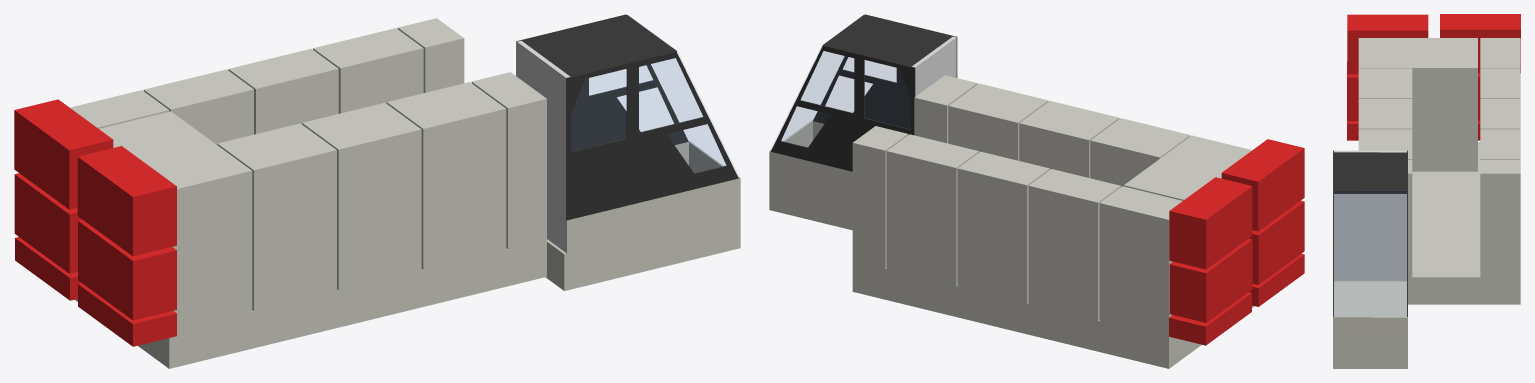
File: vehicle.glb
3 renders of one model, left to right at view 1: azimuth 30°, elevation 25°; view 2: azimuth 150°, elevation 25°; view 3: azimuth 270°, elevation 25°, orthographic. The views are drawn at different scales.
Parts seen in each view (by area): view 1: Plane, Cube.001, Cube.003, Cube.002, Cube.004, cabinSideN.003, Cube.013, Cube, cabinSideN.004, Cube.015, Cube.012, Cube.009 (+11 smaller); view 2: Plane, Cube.006, Cube.009, Cube.007, Cube.008, Cube.015, cabinSideN.001, Cube.005, Cube.001, Cube.002, Cube.014, Cube.013 (+11 smaller); view 3: Plane, Cube.011, Cube.023, Cube.005, Cube.024, Cube.013, Cube.015, cabinSideN.004, Cube.003, Cube.002, Cube.004, Cube.006 (+9 smaller).
Part boxes in pixels (bbox=[...]): Plane: bbox=[75, 211, 740, 368]; Cube.001: bbox=[386, 82, 506, 269]; Cube.003: bbox=[217, 123, 336, 311]; Cube.002: bbox=[302, 102, 421, 290]; Cube.004: bbox=[144, 144, 252, 329]; cabinSideN.003: bbox=[566, 51, 738, 220]; Cube.013: bbox=[77, 146, 176, 256]; Cube: bbox=[471, 72, 546, 249]; cabinSideN.004: bbox=[566, 141, 740, 253]; Cube.015: bbox=[14, 99, 113, 209]; Cube.012: bbox=[78, 219, 176, 320]; Cube.009: bbox=[313, 28, 423, 113]; Plane: bbox=[769, 179, 1254, 368]; Cube.006: bbox=[957, 151, 1049, 303]; Cube.009: bbox=[886, 134, 979, 285]; Cube.007: bbox=[1028, 169, 1120, 320]; Cube.008: bbox=[1099, 186, 1182, 337]; Cube.015: bbox=[1169, 177, 1252, 269]; cabinSideN.001: bbox=[771, 45, 915, 171]; Cube.005: bbox=[852, 126, 908, 268]; Cube.001: bbox=[948, 83, 1048, 160]; Cube.002: bbox=[1019, 101, 1119, 177]; Cube.014: bbox=[1169, 238, 1252, 322]; Cube.013: bbox=[1221, 139, 1304, 231]; Plane: bbox=[1333, 142, 1520, 368]; Cube.011: bbox=[1410, 38, 1477, 171]; Cube.023: bbox=[1334, 150, 1406, 281]; Cube.005: bbox=[1480, 159, 1520, 277]; Cube.024: bbox=[1334, 152, 1406, 193]; Cube.013: bbox=[1347, 14, 1428, 74]; Cube.015: bbox=[1440, 14, 1520, 73]; cabinSideN.004: bbox=[1333, 317, 1407, 341]; Cube.003: bbox=[1358, 68, 1412, 98]; Cube.002: bbox=[1358, 99, 1412, 129]; Cube.004: bbox=[1358, 38, 1412, 68]; Cube.006: bbox=[1480, 99, 1520, 129].
Size of the model in its own units: 6.8 by 2.3 by 2.51.
